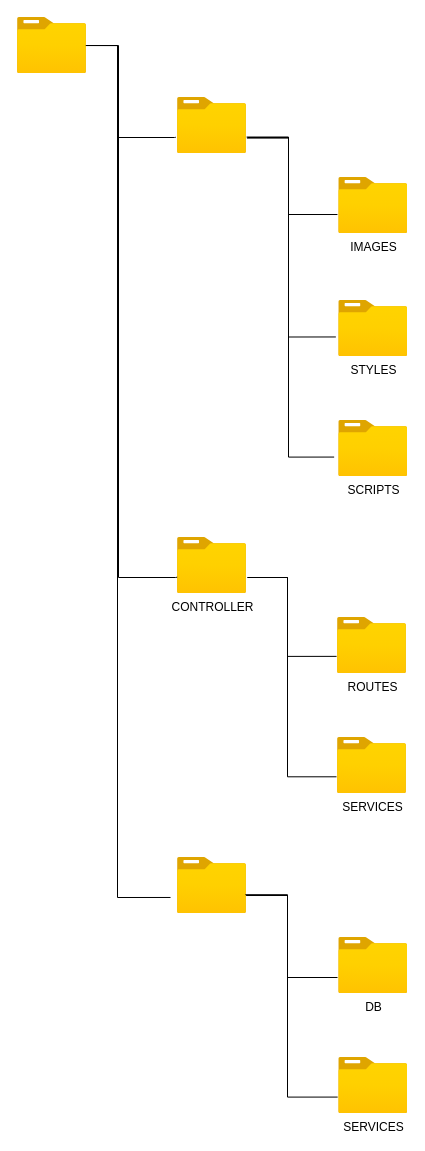
Image size: 425x1151. Some labels were removed from this diagram. Here are the shapes that lost their labels. From the top down, the centre of each, then its label:
pixel 51 45: ROOT
pixel 211 125: VIEW
pixel 211 885: MODEL
